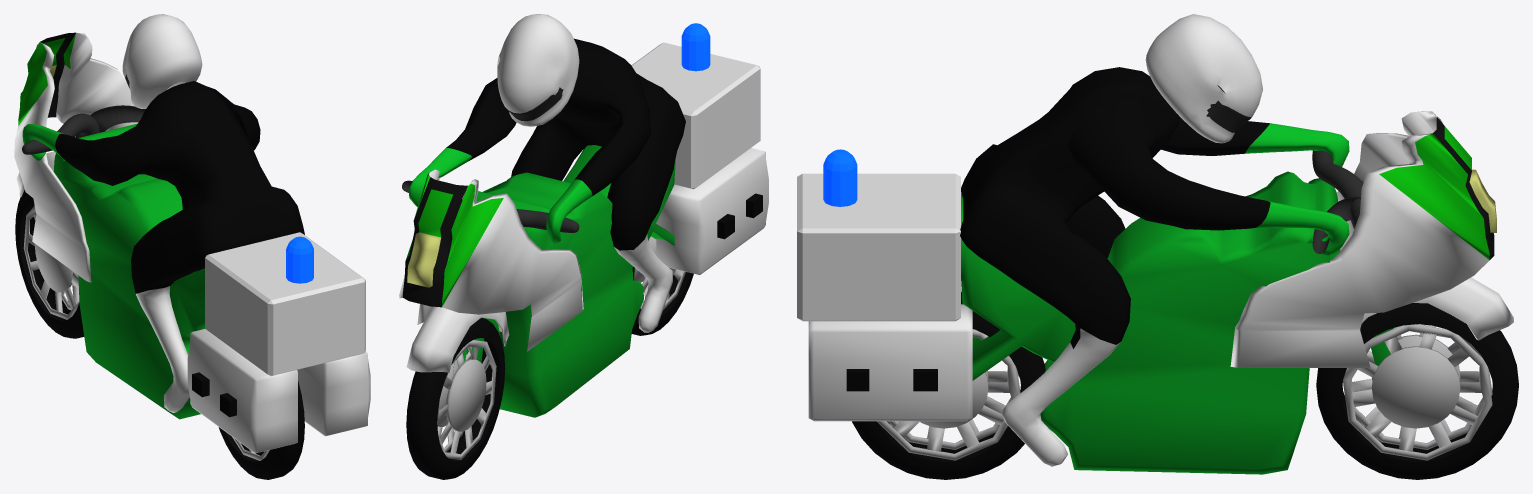
Rendered from Polizei_motorrad.fbx.
3 renders of one model, left to right at view 1: azimuth 30°, elevation 25°; view 2: azimuth 150°, elevation 25°; view 3: azimuth 270°, elevation 25°, orthographic. The views are drawn at different scales.
Visible parts, largest first — view 1: Motorrad, Polizist, rad1, rad2, Cylinder, knoepfe; view 2: Motorrad, Polizist, rad1, rad2, Cylinder, knoepfe; view 3: Motorrad, Polizist, rad1, rad2, Cylinder, knoepfe.
Boxes of the visible parts, x1,y1,x2,y2 form: Motorrad: (14,32,370,453); Polizist: (22,14,304,412); rad1: (15,190,84,338); rad2: (218,380,304,479); Cylinder: (22,105,145,154); knoepfe: (192,372,236,417); Motorrad: (399,23,768,417); Polizist: (408,14,685,332); rad1: (406,317,505,479); rad2: (631,223,693,335); Cylinder: (402,180,579,232); knoepfe: (717,193,762,239); Motorrad: (797,111,1513,474); Polizist: (960,14,1349,466); rad1: (1316,303,1518,479); rad2: (852,292,1045,479); Cylinder: (1312,150,1363,253); knoepfe: (846,369,937,391).
Bounding box in the file's own units: 1.98 × 4.17 × 5.87.
